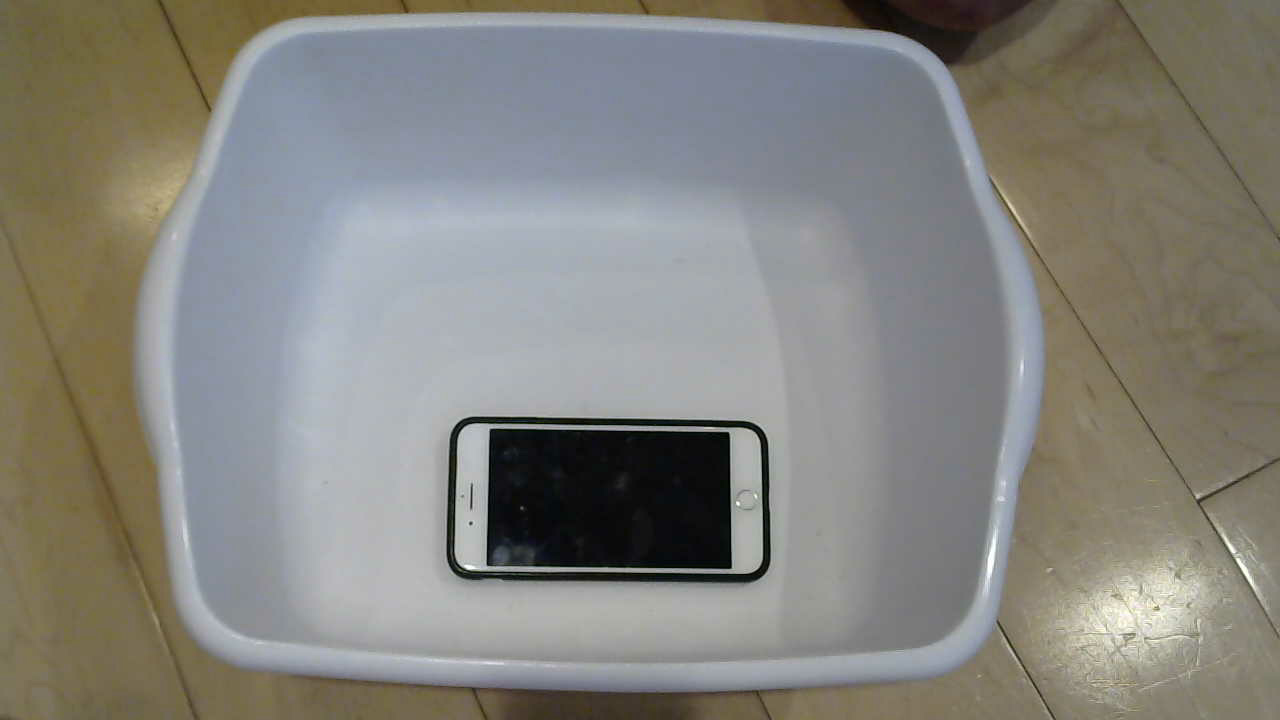phone: (416, 418, 790, 611)
